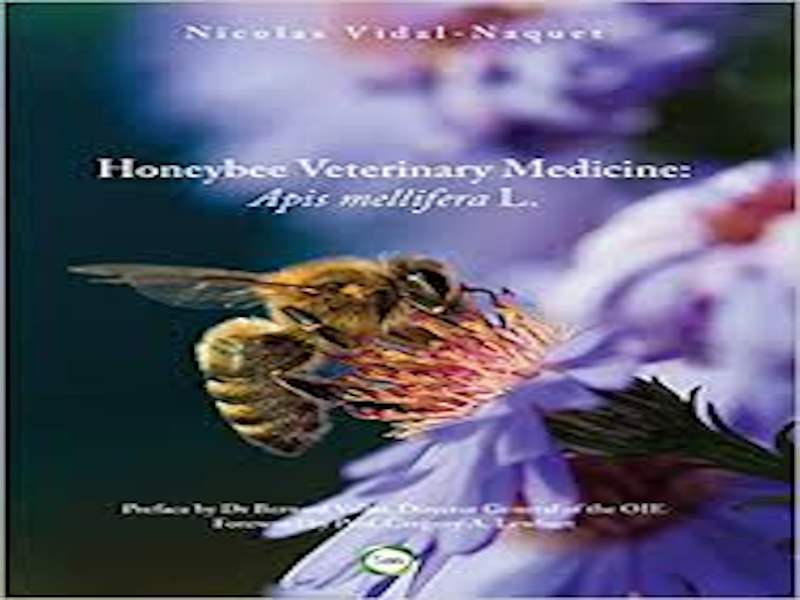abeja: (67, 234, 528, 454)
